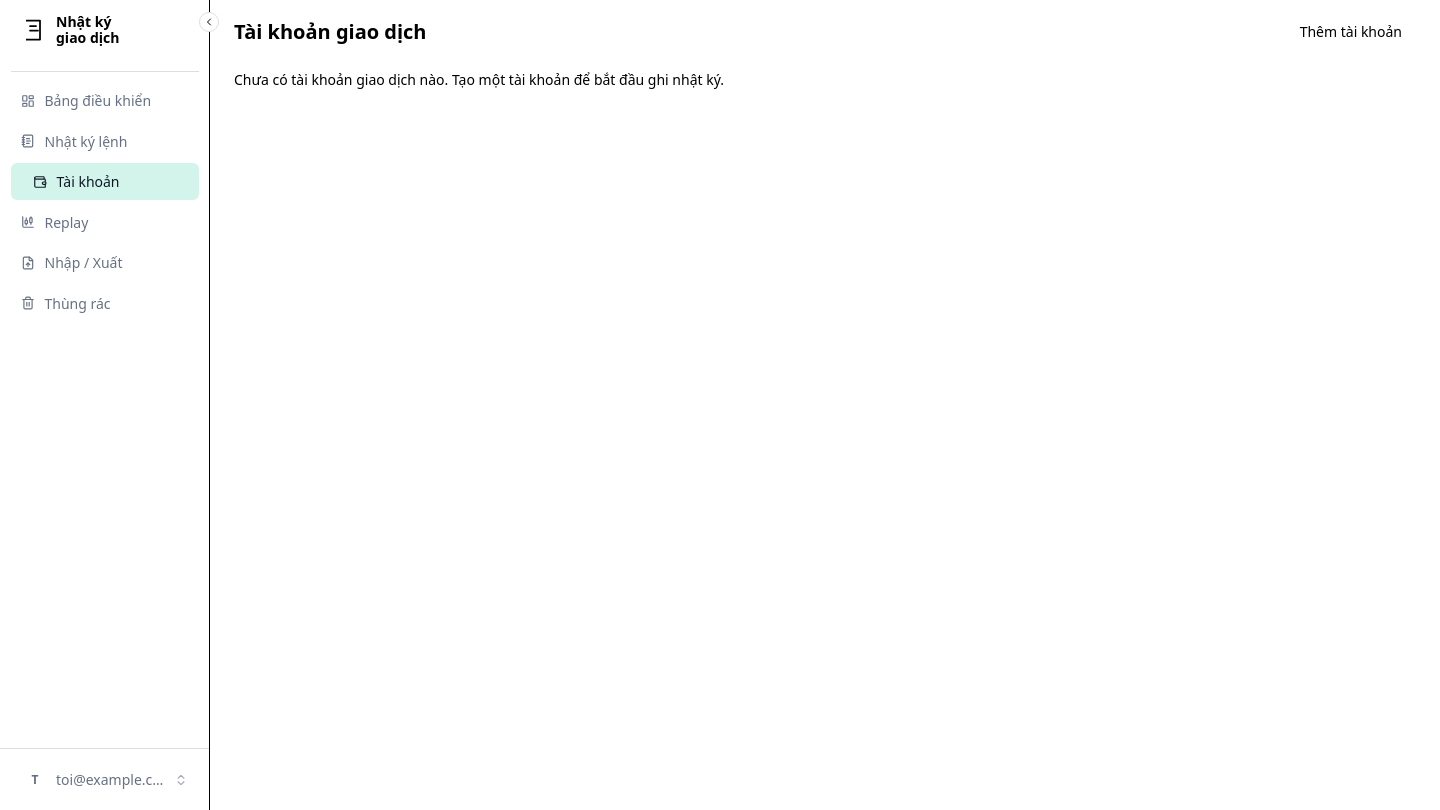
Test: thu gọn sidebar và ghi lại trạng thái
Click the button named "Thu gọn thanh điều hướng". click: (209, 22)
box: [199, 12, 219, 32]
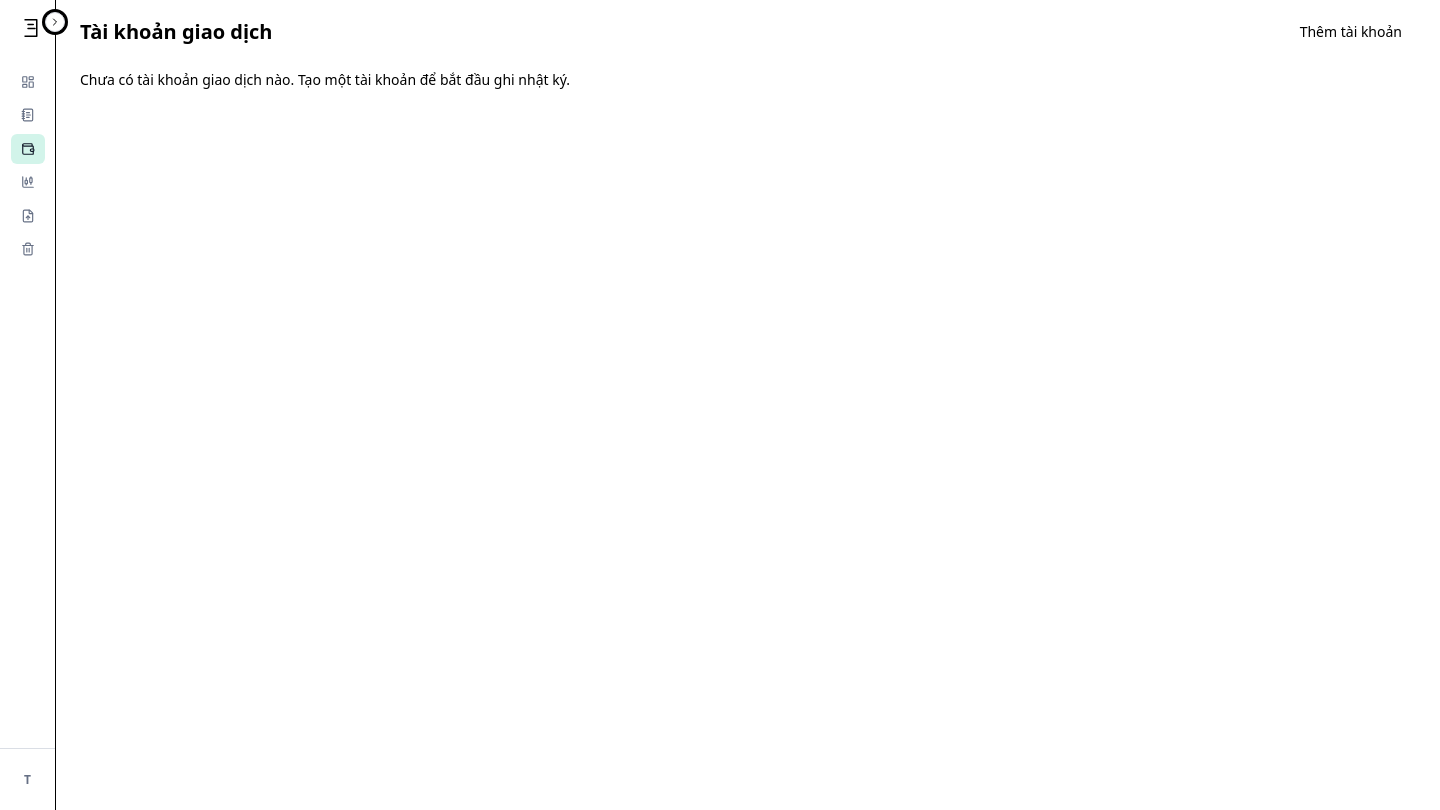
Now the button named "Thu gọn thanh điều hướng" is collapsed, box [45, 12, 65, 32]
Now the picture named "Nhật ký giao dịch" is shown, box [14, 14, 42, 42]
